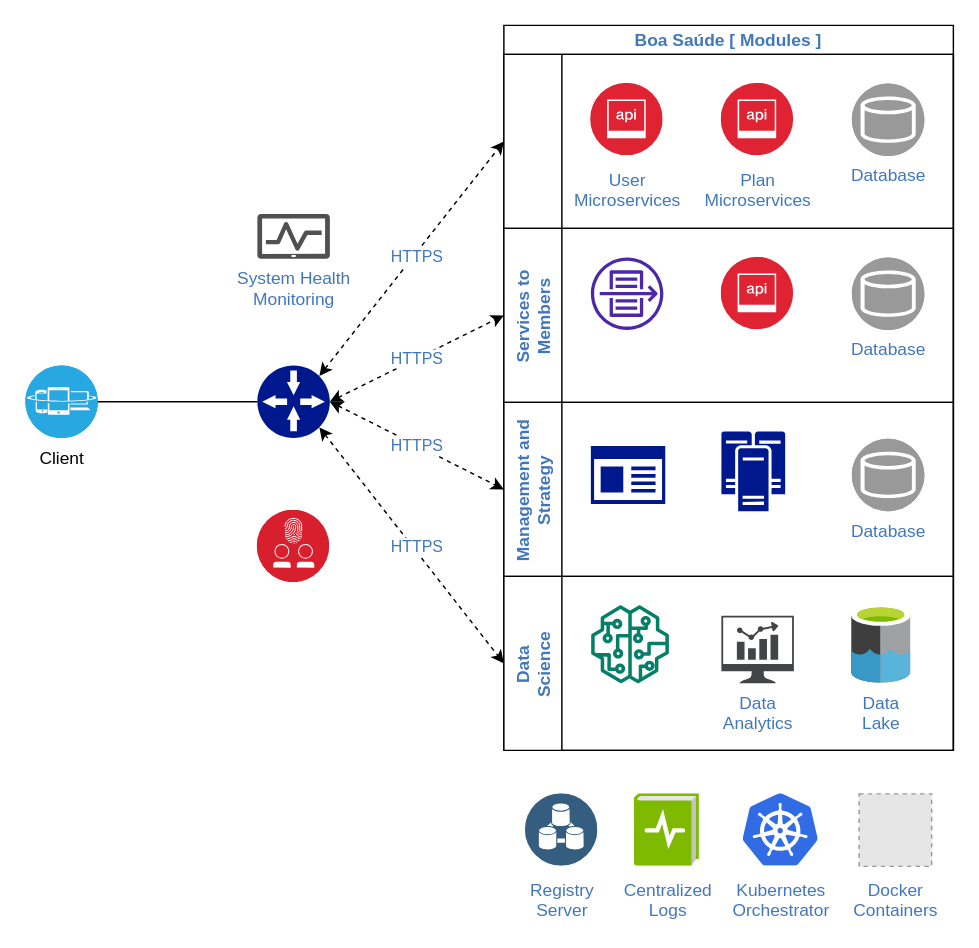
Some shapes in this 979 by 948 pixel diagram are drawn without their labels. Grey dashed boxes stand in for pictures. The shapes that lost their labels are listed below. From the top down, each one's box as (x1, y1, x2, y2) in pixels, then its label:
(502, 53, 953, 228): Registration Information
(590, 257, 663, 329): Workflow Solution
(721, 257, 793, 329): Operational Microservices
(257, 365, 329, 437): Gateway
(590, 445, 665, 503): Software from Market
(721, 431, 784, 510): On Premises Servers
(257, 510, 329, 582): Identity Access Management
(590, 604, 668, 683): Machine Learning
